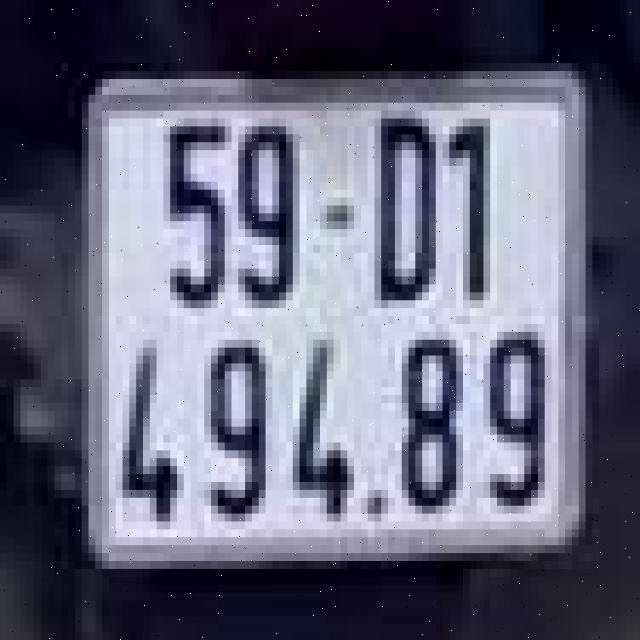1: (449, 103, 511, 316)
4: (106, 332, 194, 529), (290, 324, 364, 514)
5: (150, 115, 238, 312)
8: (388, 328, 470, 517)
9: (211, 103, 313, 308), (473, 320, 562, 518), (198, 324, 279, 529)
D: (361, 103, 442, 316)
